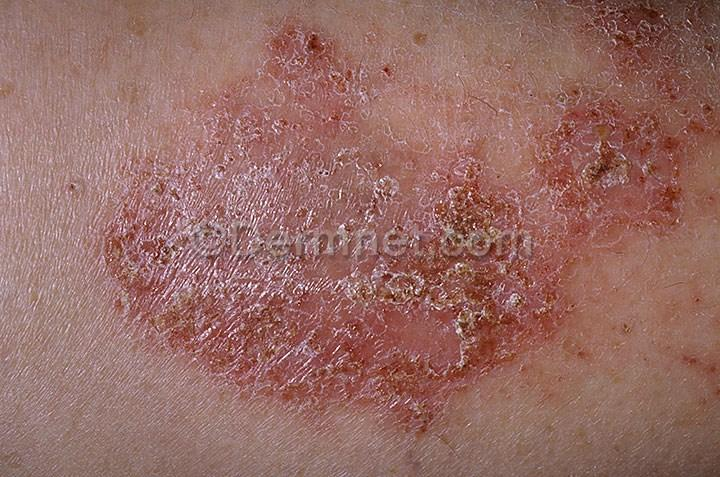Eczema: (115, 171, 533, 407), (537, 54, 709, 237), (216, 6, 361, 96)
